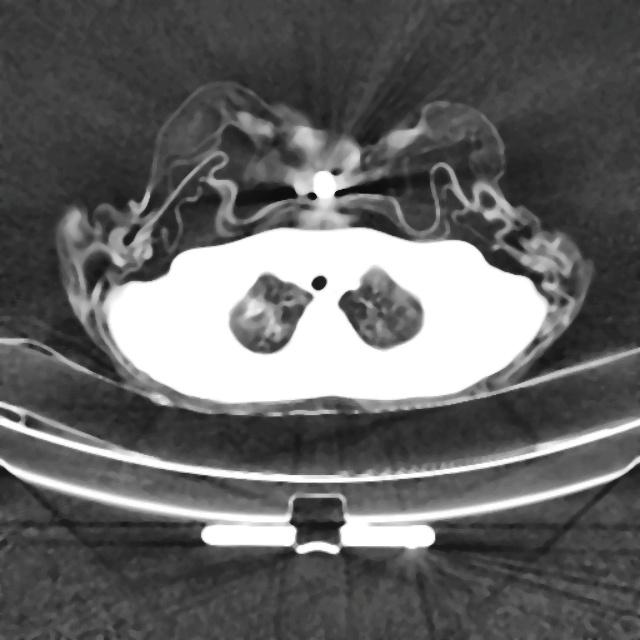covid: (54, 79, 593, 417)
